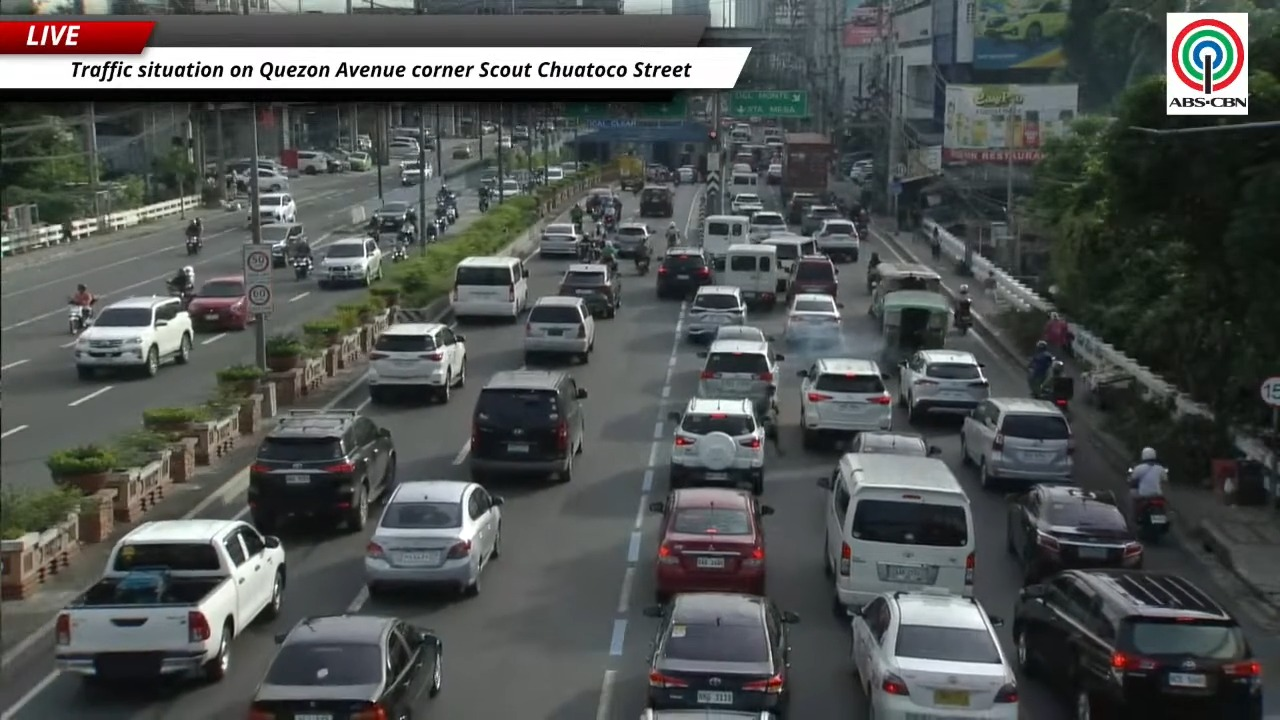car: (1012, 569, 1262, 719), (851, 591, 1018, 719), (248, 614, 442, 719), (644, 593, 799, 714), (247, 410, 396, 533), (364, 480, 503, 595), (649, 489, 773, 602), (468, 369, 586, 483), (1006, 485, 1143, 582), (960, 397, 1074, 489), (73, 296, 194, 380), (668, 398, 767, 494), (797, 358, 892, 448), (367, 322, 466, 403), (696, 340, 784, 419), (899, 349, 989, 420), (523, 297, 595, 365), (981, 0, 1067, 45), (187, 275, 252, 330), (316, 237, 382, 289), (685, 285, 746, 341), (558, 263, 620, 317), (784, 293, 842, 345), (656, 246, 713, 298), (848, 431, 940, 456), (787, 254, 838, 297), (260, 223, 307, 267), (813, 218, 860, 261), (640, 708, 778, 719), (613, 223, 651, 258), (538, 224, 579, 256), (801, 205, 843, 235), (258, 192, 296, 224), (373, 202, 411, 232), (749, 211, 787, 240), (786, 192, 819, 225), (639, 185, 673, 217), (257, 162, 289, 193), (712, 326, 771, 342), (400, 160, 432, 186), (731, 193, 764, 216), (296, 150, 327, 174), (585, 188, 614, 211), (388, 138, 421, 157), (326, 149, 349, 173), (347, 151, 372, 171), (499, 179, 523, 197), (543, 223, 579, 235), (480, 168, 497, 189), (544, 166, 565, 183), (451, 144, 473, 160), (676, 166, 696, 183), (560, 161, 582, 176), (766, 163, 782, 183), (731, 161, 754, 174), (764, 137, 784, 151), (512, 126, 530, 140), (481, 121, 496, 134), (498, 135, 512, 148)
motorcycle: (1134, 496, 1169, 542), (1033, 374, 1073, 413), (68, 302, 92, 335), (167, 284, 193, 309), (291, 256, 312, 279), (954, 310, 972, 335), (396, 225, 415, 245), (576, 240, 593, 262), (425, 220, 440, 242), (634, 255, 650, 275), (391, 242, 407, 262), (186, 235, 201, 255), (435, 218, 448, 239), (603, 215, 616, 233), (445, 205, 457, 224), (666, 232, 679, 248), (479, 197, 489, 212)
truck: (56, 519, 286, 682), (780, 132, 834, 223), (618, 154, 645, 191)
